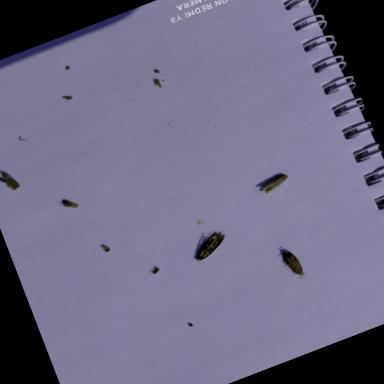pbw: (190, 230, 232, 264), (281, 246, 308, 282), (260, 172, 292, 196), (0, 166, 21, 195), (59, 196, 80, 213), (153, 78, 163, 90)
